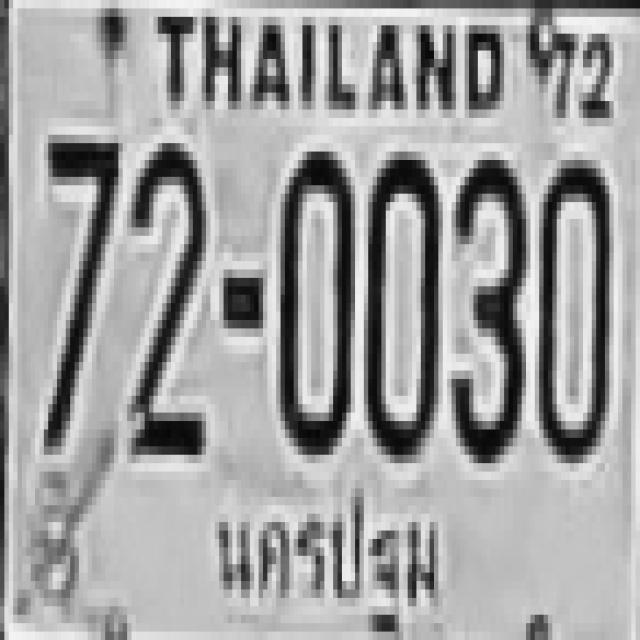0: (364, 143, 438, 455), (276, 143, 351, 446), (535, 152, 609, 454)
2: (127, 135, 202, 446)
3: (447, 152, 522, 454)
7: (42, 126, 116, 446)
NakhonPathom: (206, 471, 450, 640)
